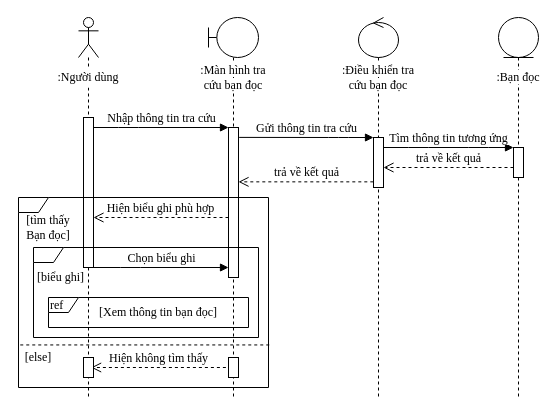
The diagram is 560 pixels wide and 415 high, and some of its shapes have lost their labels. Each missing label, with the box of its shape:
alt: (18, 196, 268, 388)
opt: (32, 246, 258, 338)
